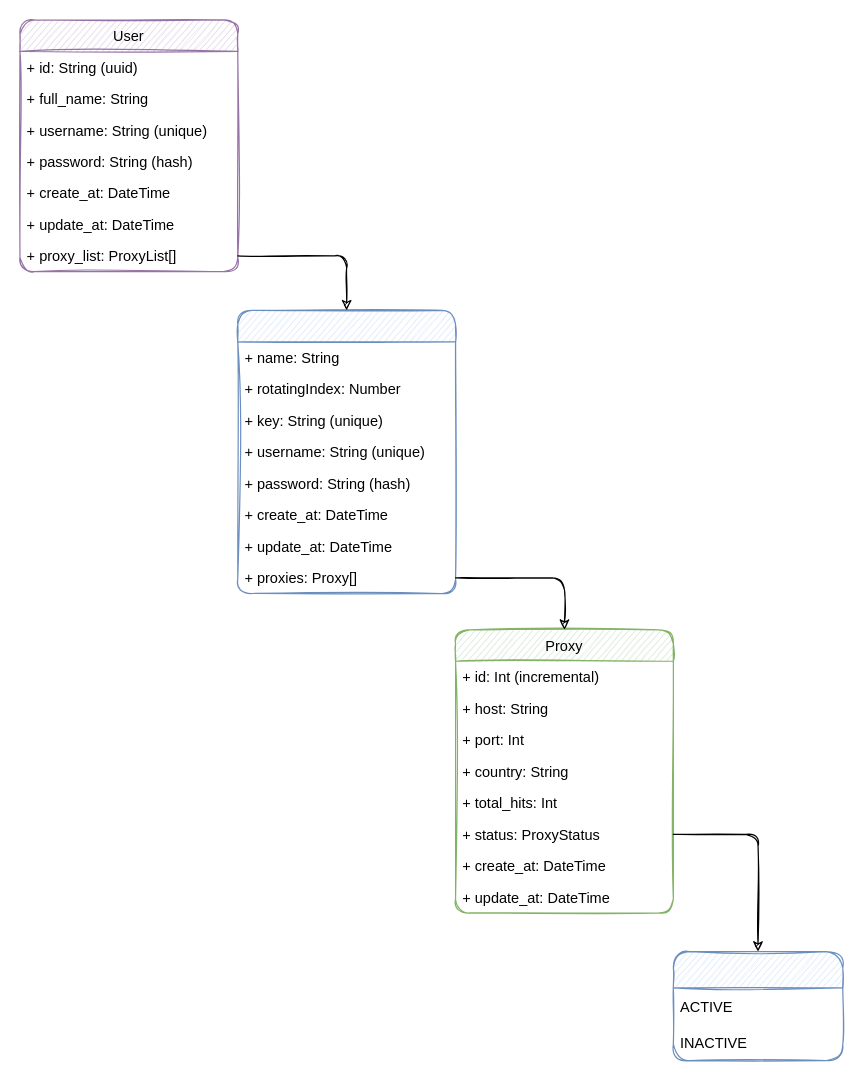
Some shapes in this 864 by 1081 pixel diagram are drawn without their labels. The box of each missing label's shape, as (x1, y1, x2, y2) in pixels:
ProxyList: (237, 309, 456, 594)
ProxyStatus: (672, 950, 843, 1061)
